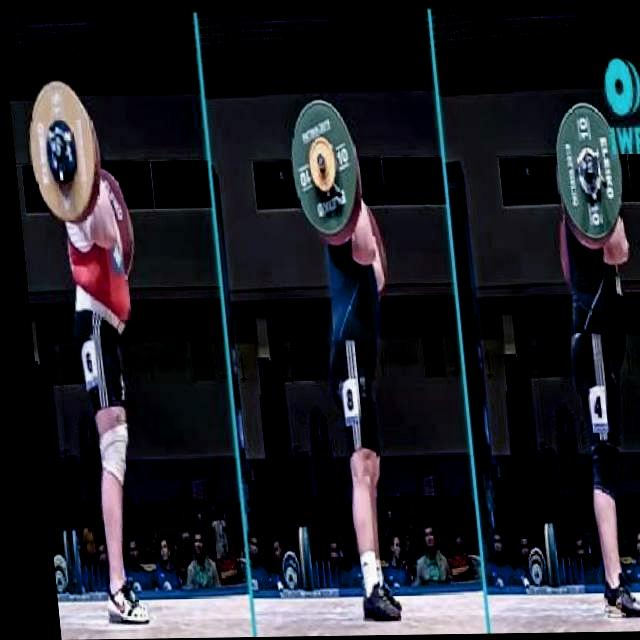barbell: (17, 75, 106, 228), (278, 95, 365, 247), (542, 101, 630, 251)
